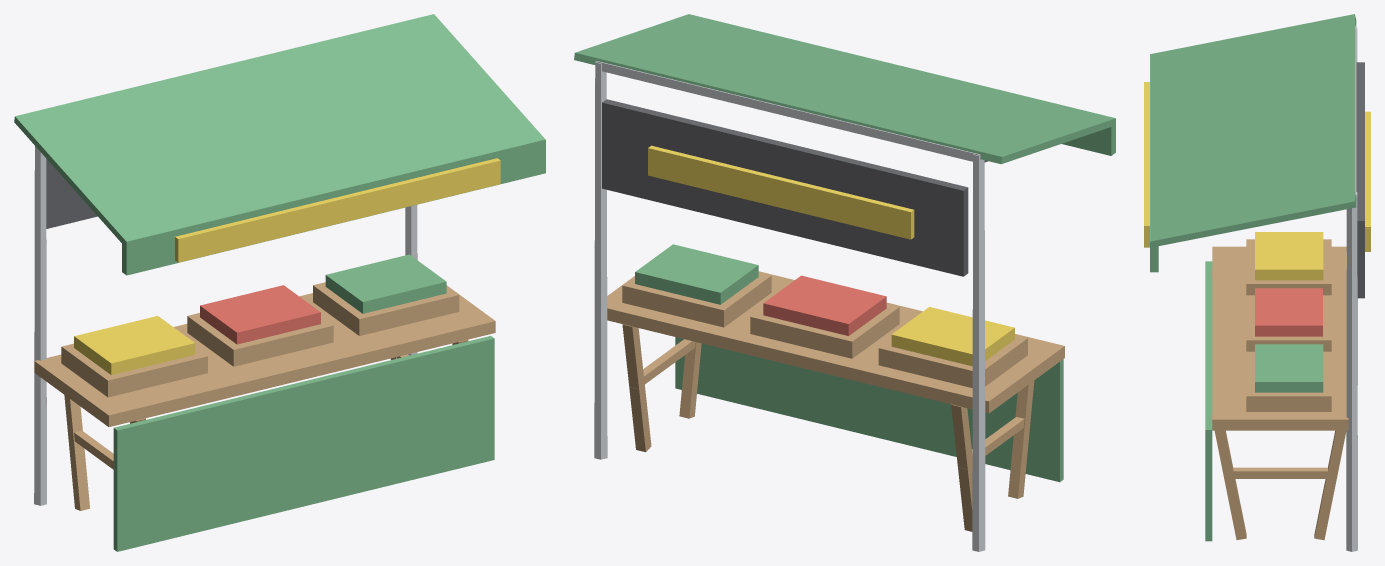
The model's file is street-food-market-and-food-trucks-trestle-stall-with--2858ba1d.glb.
3 views of the same model, side by side, from view 1: azimuth 30°, elevation 25°; view 2: azimuth 150°, elevation 25°; view 3: azimuth 270°, elevation 25° (orthographic). The views are drawn at different scales.
Parts seen in each view (by area): view 1: trestle-stall-with-awning-leaf, trestle-stall-with-awning-timber, trestle-stall-with-awning-canary, trestle-stall-with-awning-steel, trestle-stall-with-awning-scarlet, trestle-stall-with-awning-charcoal; view 2: trestle-stall-with-awning-leaf, trestle-stall-with-awning-timber, trestle-stall-with-awning-charcoal, trestle-stall-with-awning-steel, trestle-stall-with-awning-canary, trestle-stall-with-awning-scarlet; view 3: trestle-stall-with-awning-leaf, trestle-stall-with-awning-timber, trestle-stall-with-awning-canary, trestle-stall-with-awning-steel, trestle-stall-with-awning-scarlet, trestle-stall-with-awning-charcoal.
Part boxes in pixels (x1,y1,x2,y2): trestle-stall-with-awning-leaf: (14, 14, 545, 551); trestle-stall-with-awning-timber: (34, 282, 495, 510); trestle-stall-with-awning-canary: (74, 158, 500, 375); trestle-stall-with-awning-steel: (34, 146, 417, 505); trestle-stall-with-awning-scarlet: (200, 285, 320, 344); trestle-stall-with-awning-charcoal: (46, 159, 97, 228); trestle-stall-with-awning-leaf: (574, 14, 1115, 482); trestle-stall-with-awning-timber: (607, 271, 1064, 531); trestle-stall-with-awning-charcoal: (602, 99, 968, 276); trestle-stall-with-awning-steel: (594, 61, 987, 551); trestle-stall-with-awning-canary: (648, 145, 1014, 366); trestle-stall-with-awning-scarlet: (763, 275, 886, 335); trestle-stall-with-awning-leaf: (1150, 14, 1356, 541); trestle-stall-with-awning-timber: (1212, 239, 1348, 540); trestle-stall-with-awning-canary: (1144, 82, 1370, 280); trestle-stall-with-awning-steel: (1346, 25, 1357, 551); trestle-stall-with-awning-scarlet: (1255, 288, 1322, 336); trestle-stall-with-awning-charcoal: (1356, 62, 1364, 298).
Size of the model in its own units: 2.6 by 2.32 by 1.33.
